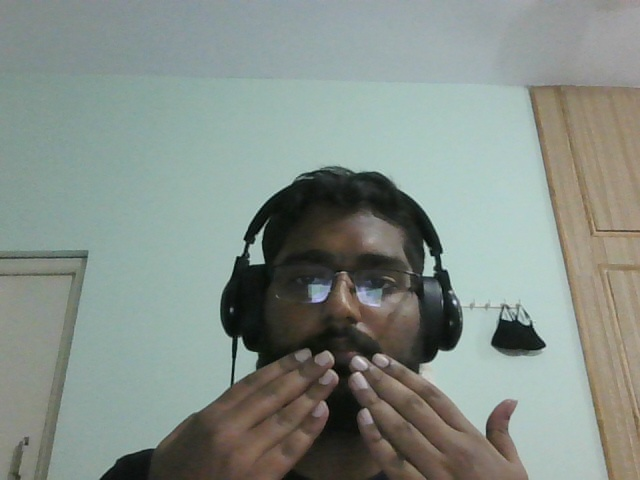Thank You: (142, 335, 549, 480)
